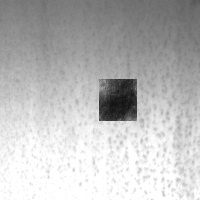patches: (99, 79, 137, 121)
pitted_surface: (11, 2, 196, 195)
